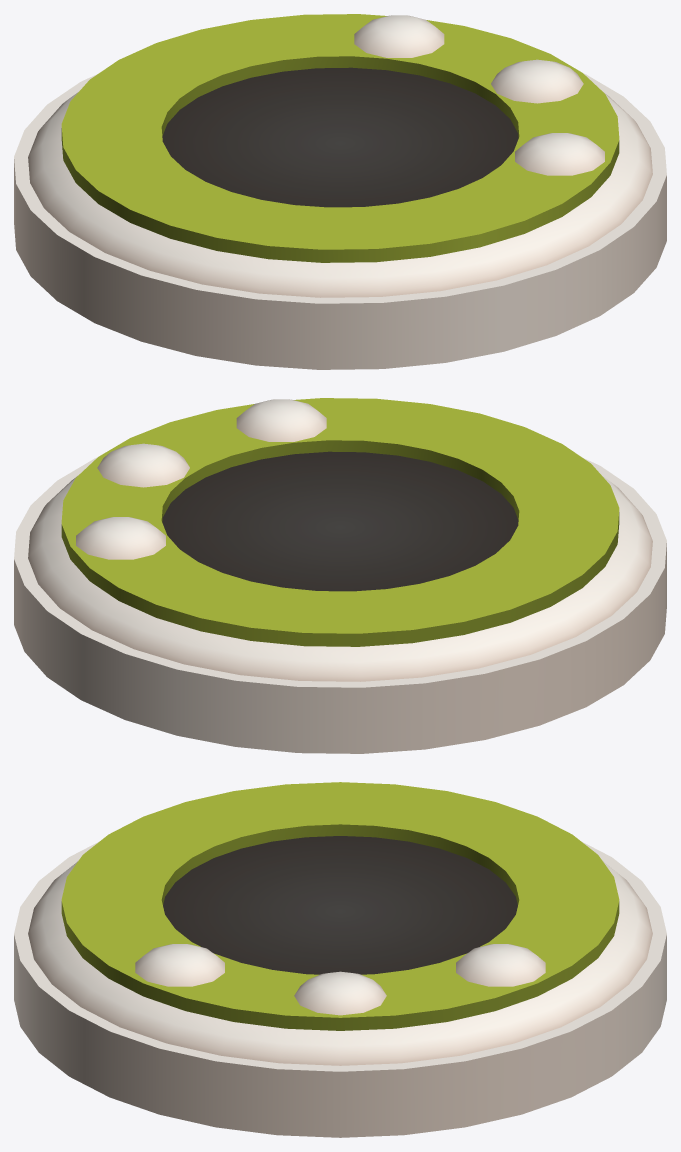
The model's file is AR_SavePortal_001.FBX.
The picture shows the model from 3 angles, top to bottom: view 1: azimuth 30°, elevation 25°; view 2: azimuth 150°, elevation 25°; view 3: azimuth 270°, elevation 25°; orthographic projection.
Visible parts, largest first — view 1: AR_SavePortal_001; view 2: AR_SavePortal_001; view 3: AR_SavePortal_001.
Part boxes in pixels (x1,y1,x2,y2): AR_SavePortal_001: [14, 14, 666, 369]; AR_SavePortal_001: [14, 398, 666, 753]; AR_SavePortal_001: [14, 782, 666, 1137].
Size of the model in its own units: 130 by 25.64 by 130.
